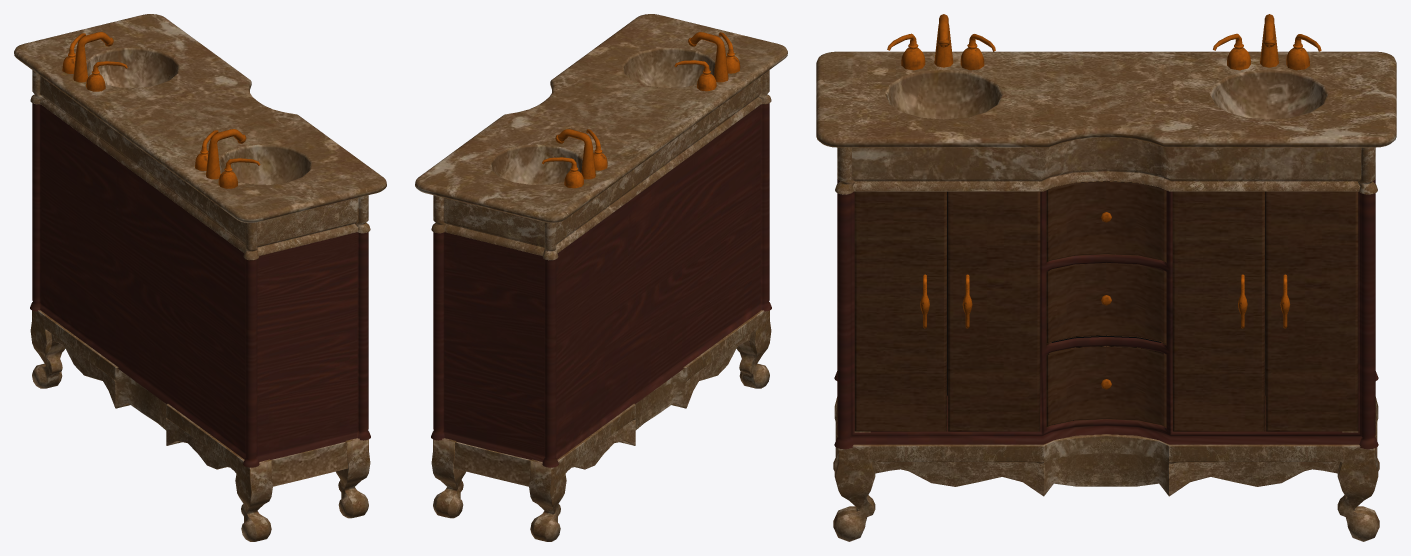
File: closet3.fbx
The picture shows the model from 3 angles, left to right: view 1: azimuth 30°, elevation 25°; view 2: azimuth 150°, elevation 25°; view 3: azimuth 270°, elevation 25°; orthographic projection. The views are drawn at different scales.
Parts seen in each view (by area): view 1: Cabinet_Body2, Cabinet_Top_Sink, Cabinet_Stand1, Cabinet_Mid_Section, Water_Faucet_Tap6; view 2: Cabinet_Body2, Cabinet_Top_Sink, Cabinet_Stand1, Cabinet_Mid_Section, Water_Faucet_Tap6; view 3: Cabinet_Doors3, Cabinet_Top_Sink, Cabinet_Stand1, Cabinet_Mid_Section, Cabinet_Body2, Water_Faucet_Tap6, Cabinet_Handle5.
Part boxes in pixels (left/top/right/bottom): Cabinet_Body2: left=30, top=103, right=370, bottom=467; Cabinet_Top_Sink: left=14, top=14, right=386, bottom=222; Cabinet_Stand1: left=30, top=310, right=370, bottom=541; Cabinet_Mid_Section: left=30, top=70, right=370, bottom=260; Water_Faucet_Tap6: left=62, top=32, right=260, bottom=188; Cabinet_Body2: left=431, top=103, right=771, bottom=467; Cabinet_Top_Sink: left=415, top=14, right=787, bottom=222; Cabinet_Stand1: left=431, top=310, right=771, bottom=541; Cabinet_Mid_Section: left=431, top=70, right=771, bottom=260; Water_Faucet_Tap6: left=542, top=32, right=740, bottom=188; Cabinet_Doors3: left=854, top=181, right=1358, bottom=431; Cabinet_Top_Sink: left=816, top=51, right=1396, bottom=147; Cabinet_Stand1: left=833, top=397, right=1379, bottom=541; Cabinet_Mid_Section: left=835, top=137, right=1377, bottom=194; Cabinet_Body2: left=834, top=179, right=1378, bottom=449; Water_Faucet_Tap6: left=887, top=14, right=1321, bottom=70; Cabinet_Handle5: left=920, top=212, right=1290, bottom=389.
Bounding box in the file's own units: 1059 × 2571 × 2898.
9 materials, 9 textured.
